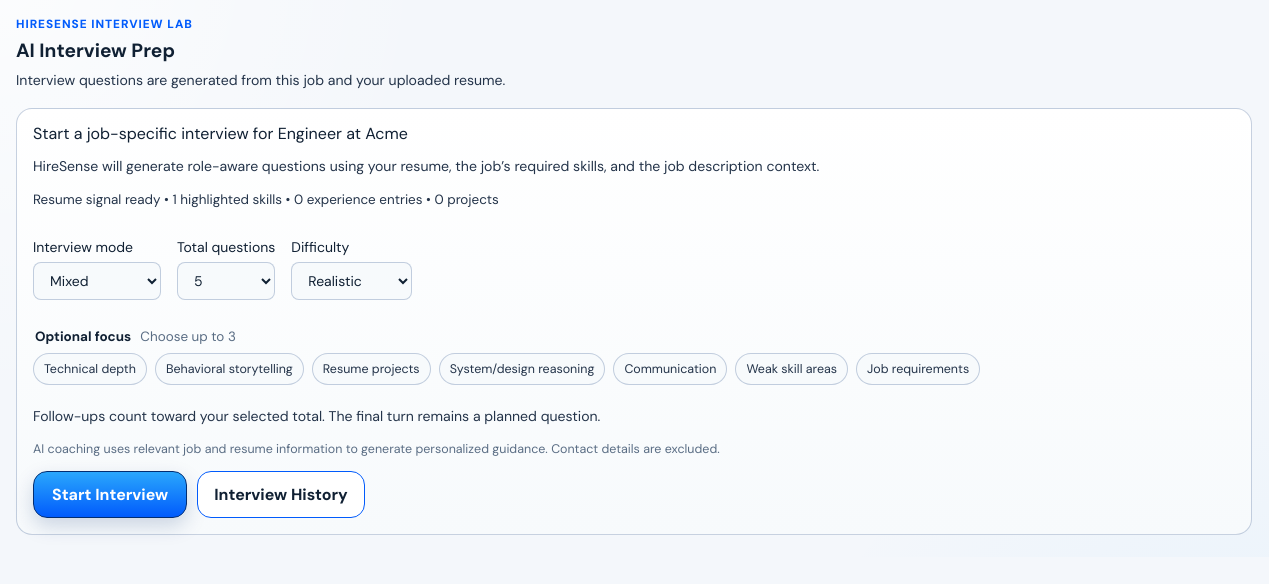
Scenario: AIInterviewPanel › supports start error and retry
Step 1. Click the button "Start Interview" → [110, 494], box [33,471,187,518]
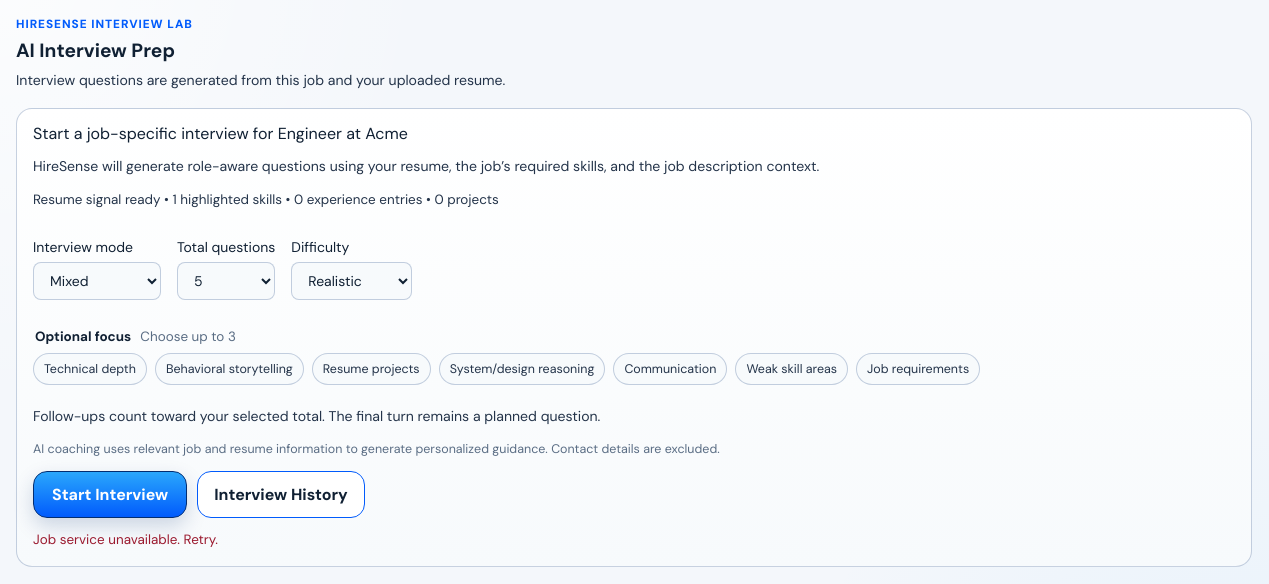
Check: the message "Job service unavailable. Retry." is shown, box [33,531,218,548]
Step 2. Click the button "Start Interview" → [110, 494], box [33,471,187,518]
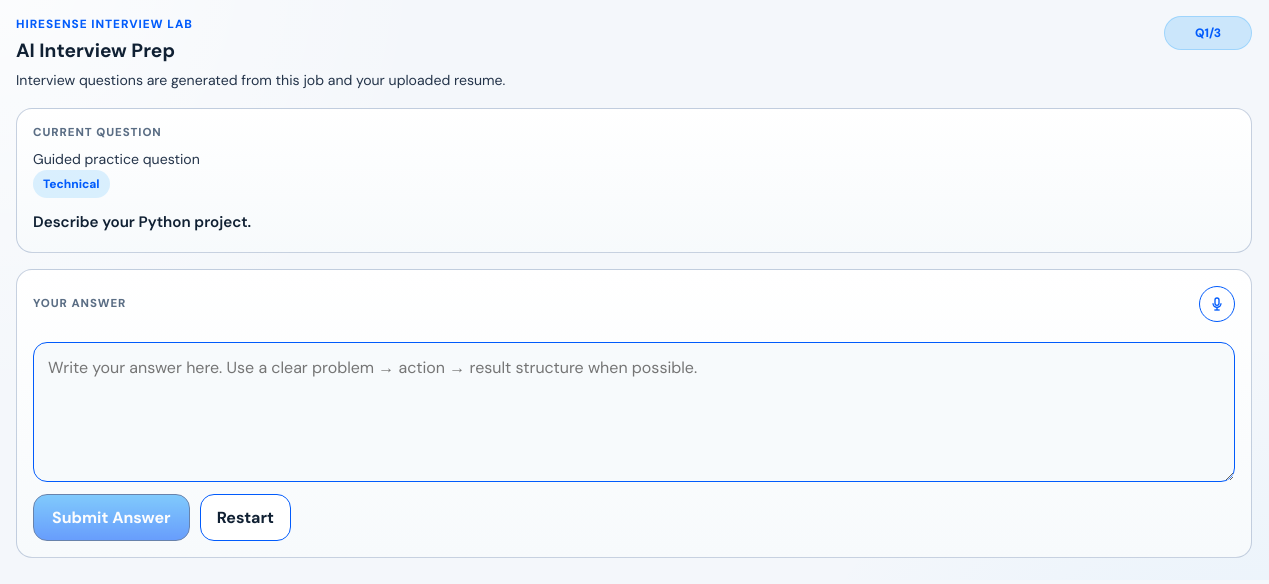
Check: the text "Describe your Python project." is shown, box [33,212,251,232]
